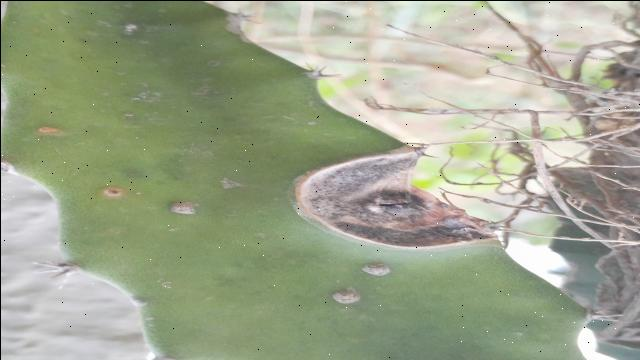stemcanker: (330, 285, 363, 307), (359, 258, 392, 279), (169, 196, 195, 217), (40, 123, 65, 138), (101, 185, 126, 200)
